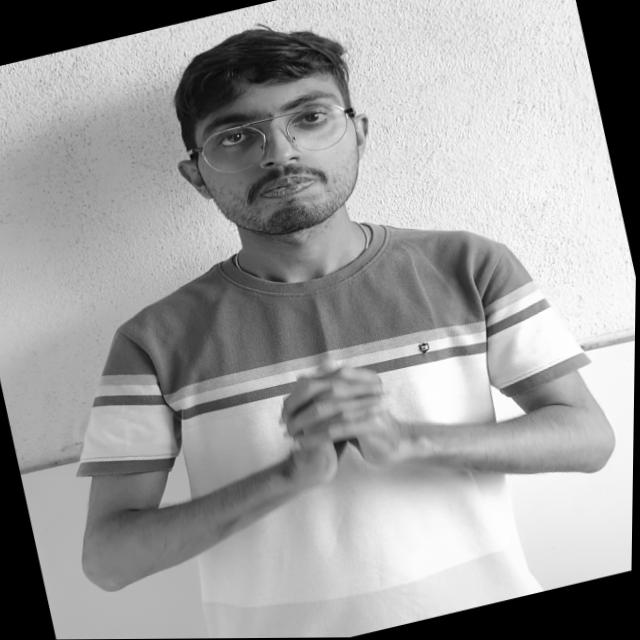Sorry: (234, 323, 465, 514)
